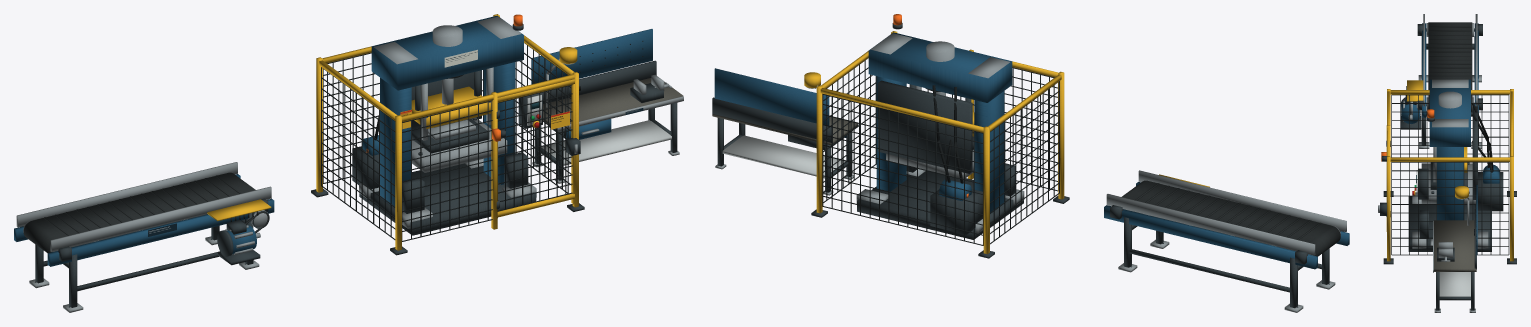
The model's file is PZ_Factory_Production_Line_IV26.glb.
3 renders of one model, left to right at view 1: azimuth 30°, elevation 25°; view 2: azimuth 150°, elevation 25°; view 3: azimuth 270°, elevation 25°, orthographic. The views are drawn at different scales.
Parts seen in each view (by area): view 1: PRESS_UPPER_CROSSHEAD, CONV_ENDLESS_BELT_CLOSED_SHELL, PRESS_BASE_MACHINE_SKID, CAGE_WELDED_PANEL_LEFT, CAGE_FRONT_FIXED_WELDMESH, BENCH_TOOL_PEGBOARD, CAGE_GATE_WELDMESH, CONV_UPPER_GUARD_L, PRESS_COLUMN_L, CONV_MAIN_STRINGER_L, BENCH_UNDERSHELF, BENCH_MAIN_TOP (+27 smaller); view 2: CAGE_WELDED_PANEL_REAR, PRESS_REAR_BRACE, PRESS_UPPER_CROSSHEAD, CONV_ENDLESS_BELT_CLOSED_SHELL, CAGE_WELDED_PANEL_LEFT, BENCH_TOOL_PEGBOARD, PRESS_BASE_MACHINE_SKID, CONV_MAIN_STRINGER_R, CONV_UPPER_GUARD_R, PRESS_COLUMN_L, CAGE_WELDED_PANEL_RIGHT, BENCH_UNDERSHELF (+17 smaller); view 3: CAGE_WELDED_PANEL_RIGHT, CONV_ENDLESS_BELT_CLOSED_SHELL, PRESS_UPPER_CROSSHEAD, BENCH_MAIN_TOP, PRESS_COLUMN_R, CAGE_WELDED_PANEL_LEFT, PRESS_BASE_MACHINE_SKID, PRESS_HYDRAULIC_TANK, BENCH_UNDERSHELF, CAGE_RAIL_TOP_RIGHT, PRESS_BOLSTER_TABLE, PRESS_REAR_BRACE (+32 smaller).
Boxes of the visible parts, <box> form: PRESS_UPPER_CROSSHEAD: <box>371,15,523,90</box>; CONV_ENDLESS_BELT_CLOSED_SHELL: <box>23,172,255,253</box>; PRESS_BASE_MACHINE_SKID: <box>359,163,536,235</box>; CAGE_WELDED_PANEL_LEFT: <box>321,67,395,239</box>; CAGE_FRONT_FIXED_WELDMESH: <box>402,100,497,241</box>; BENCH_TOOL_PEGBOARD: <box>531,29,652,84</box>; CAGE_GATE_WELDMESH: <box>498,84,572,211</box>; CONV_UPPER_GUARD_L: <box>50,186,271,251</box>; PRESS_COLUMN_L: <box>380,78,411,207</box>; CONV_MAIN_STRINGER_L: <box>47,198,274,266</box>; BENCH_UNDERSHELF: <box>541,120,671,165</box>; BENCH_MAIN_TOP: <box>543,78,683,129</box>; CAGE_WELDED_PANEL_REAR: <box>822,94,983,245</box>; PRESS_REAR_BRACE: <box>878,80,972,173</box>; PRESS_UPPER_CROSSHEAD: <box>868,32,1012,102</box>; CONV_ENDLESS_BELT_CLOSED_SHELL: <box>1122,180,1340,256</box>; CAGE_WELDED_PANEL_LEFT: <box>990,81,1059,244</box>; BENCH_TOOL_PEGBOARD: <box>714,68,829,125</box>; PRESS_BASE_MACHINE_SKID: <box>857,171,1023,239</box>; CONV_MAIN_STRINGER_R: <box>1104,205,1317,269</box>; CONV_UPPER_GUARD_R: <box>1106,194,1315,255</box>; PRESS_COLUMN_L: <box>974,91,1004,213</box>; CAGE_WELDED_PANEL_RIGHT: <box>823,58,876,202</box>; BENCH_UNDERSHELF: <box>722,135,845,178</box>; CAGE_WELDED_PANEL_RIGHT: <box>1391,162,1509,255</box>; CONV_ENDLESS_BELT_CLOSED_SHELL: <box>1428,22,1472,111</box>; PRESS_UPPER_CROSSHEAD: <box>1429,79,1470,146</box>; BENCH_MAIN_TOP: <box>1434,220,1476,271</box>; PRESS_COLUMN_R: <box>1436,147,1463,220</box>; CAGE_WELDED_PANEL_LEFT: <box>1391,94,1509,157</box>; PRESS_BASE_MACHINE_SKID: <box>1408,196,1491,251</box>; PRESS_HYDRAULIC_TANK: <box>1474,172,1503,211</box>; BENCH_UNDERSHELF: <box>1439,272,1470,296</box>; CAGE_RAIL_TOP_RIGHT: <box>1390,157,1509,161</box>; PRESS_BOLSTER_TABLE: <box>1421,163,1475,203</box>; PRESS_REAR_BRACE: <box>1472,106,1477,199</box>.
Size of the model in its own units: 11.5 by 3.09 by 2.77.
Materials: 1 (1 with a texture image).
